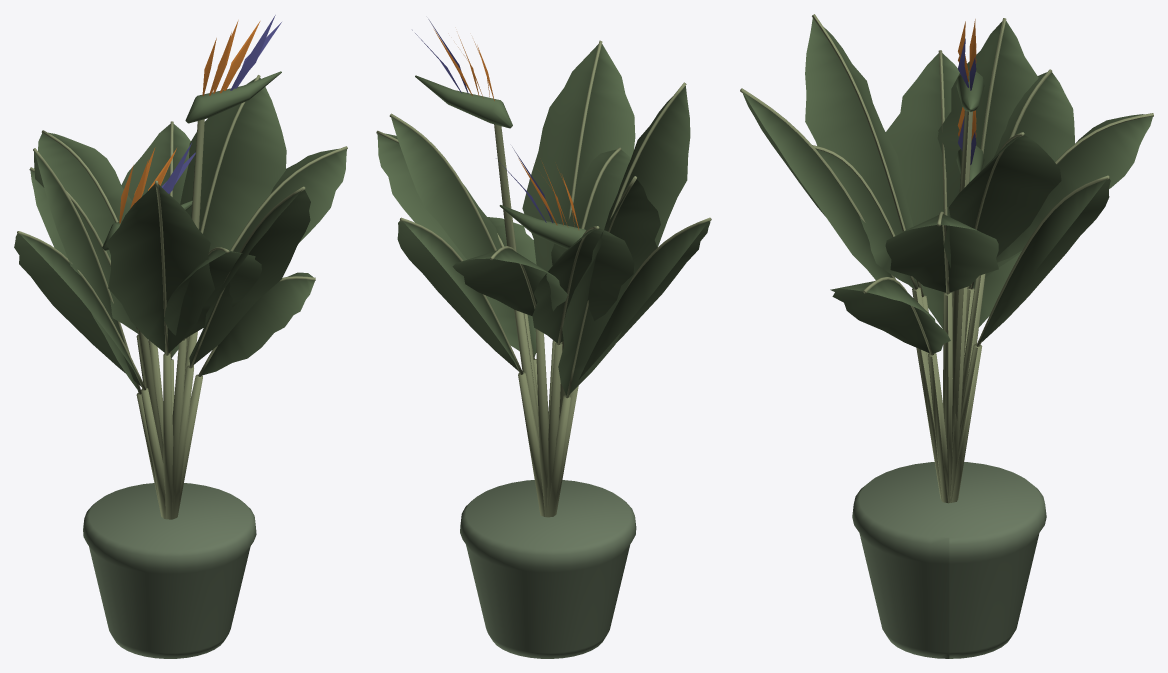
File: strelitzia-planter.glb
3 views of the same model, side by side, from view 1: azimuth 30°, elevation 25°; view 2: azimuth 150°, elevation 25°; view 3: azimuth 270°, elevation 25° (orthographic). The views are drawn at different scales.
Parts seen in each view (by area): view 1: Frame; view 2: Frame; view 3: Frame.
Part boxes in pixels (x1,y1,x2,y2): Frame: (14, 15, 347, 658); Frame: (376, 19, 711, 658); Frame: (740, 14, 1153, 658).
Bounding box in the file's own units: 0.8702 × 1.48 × 0.8471.
